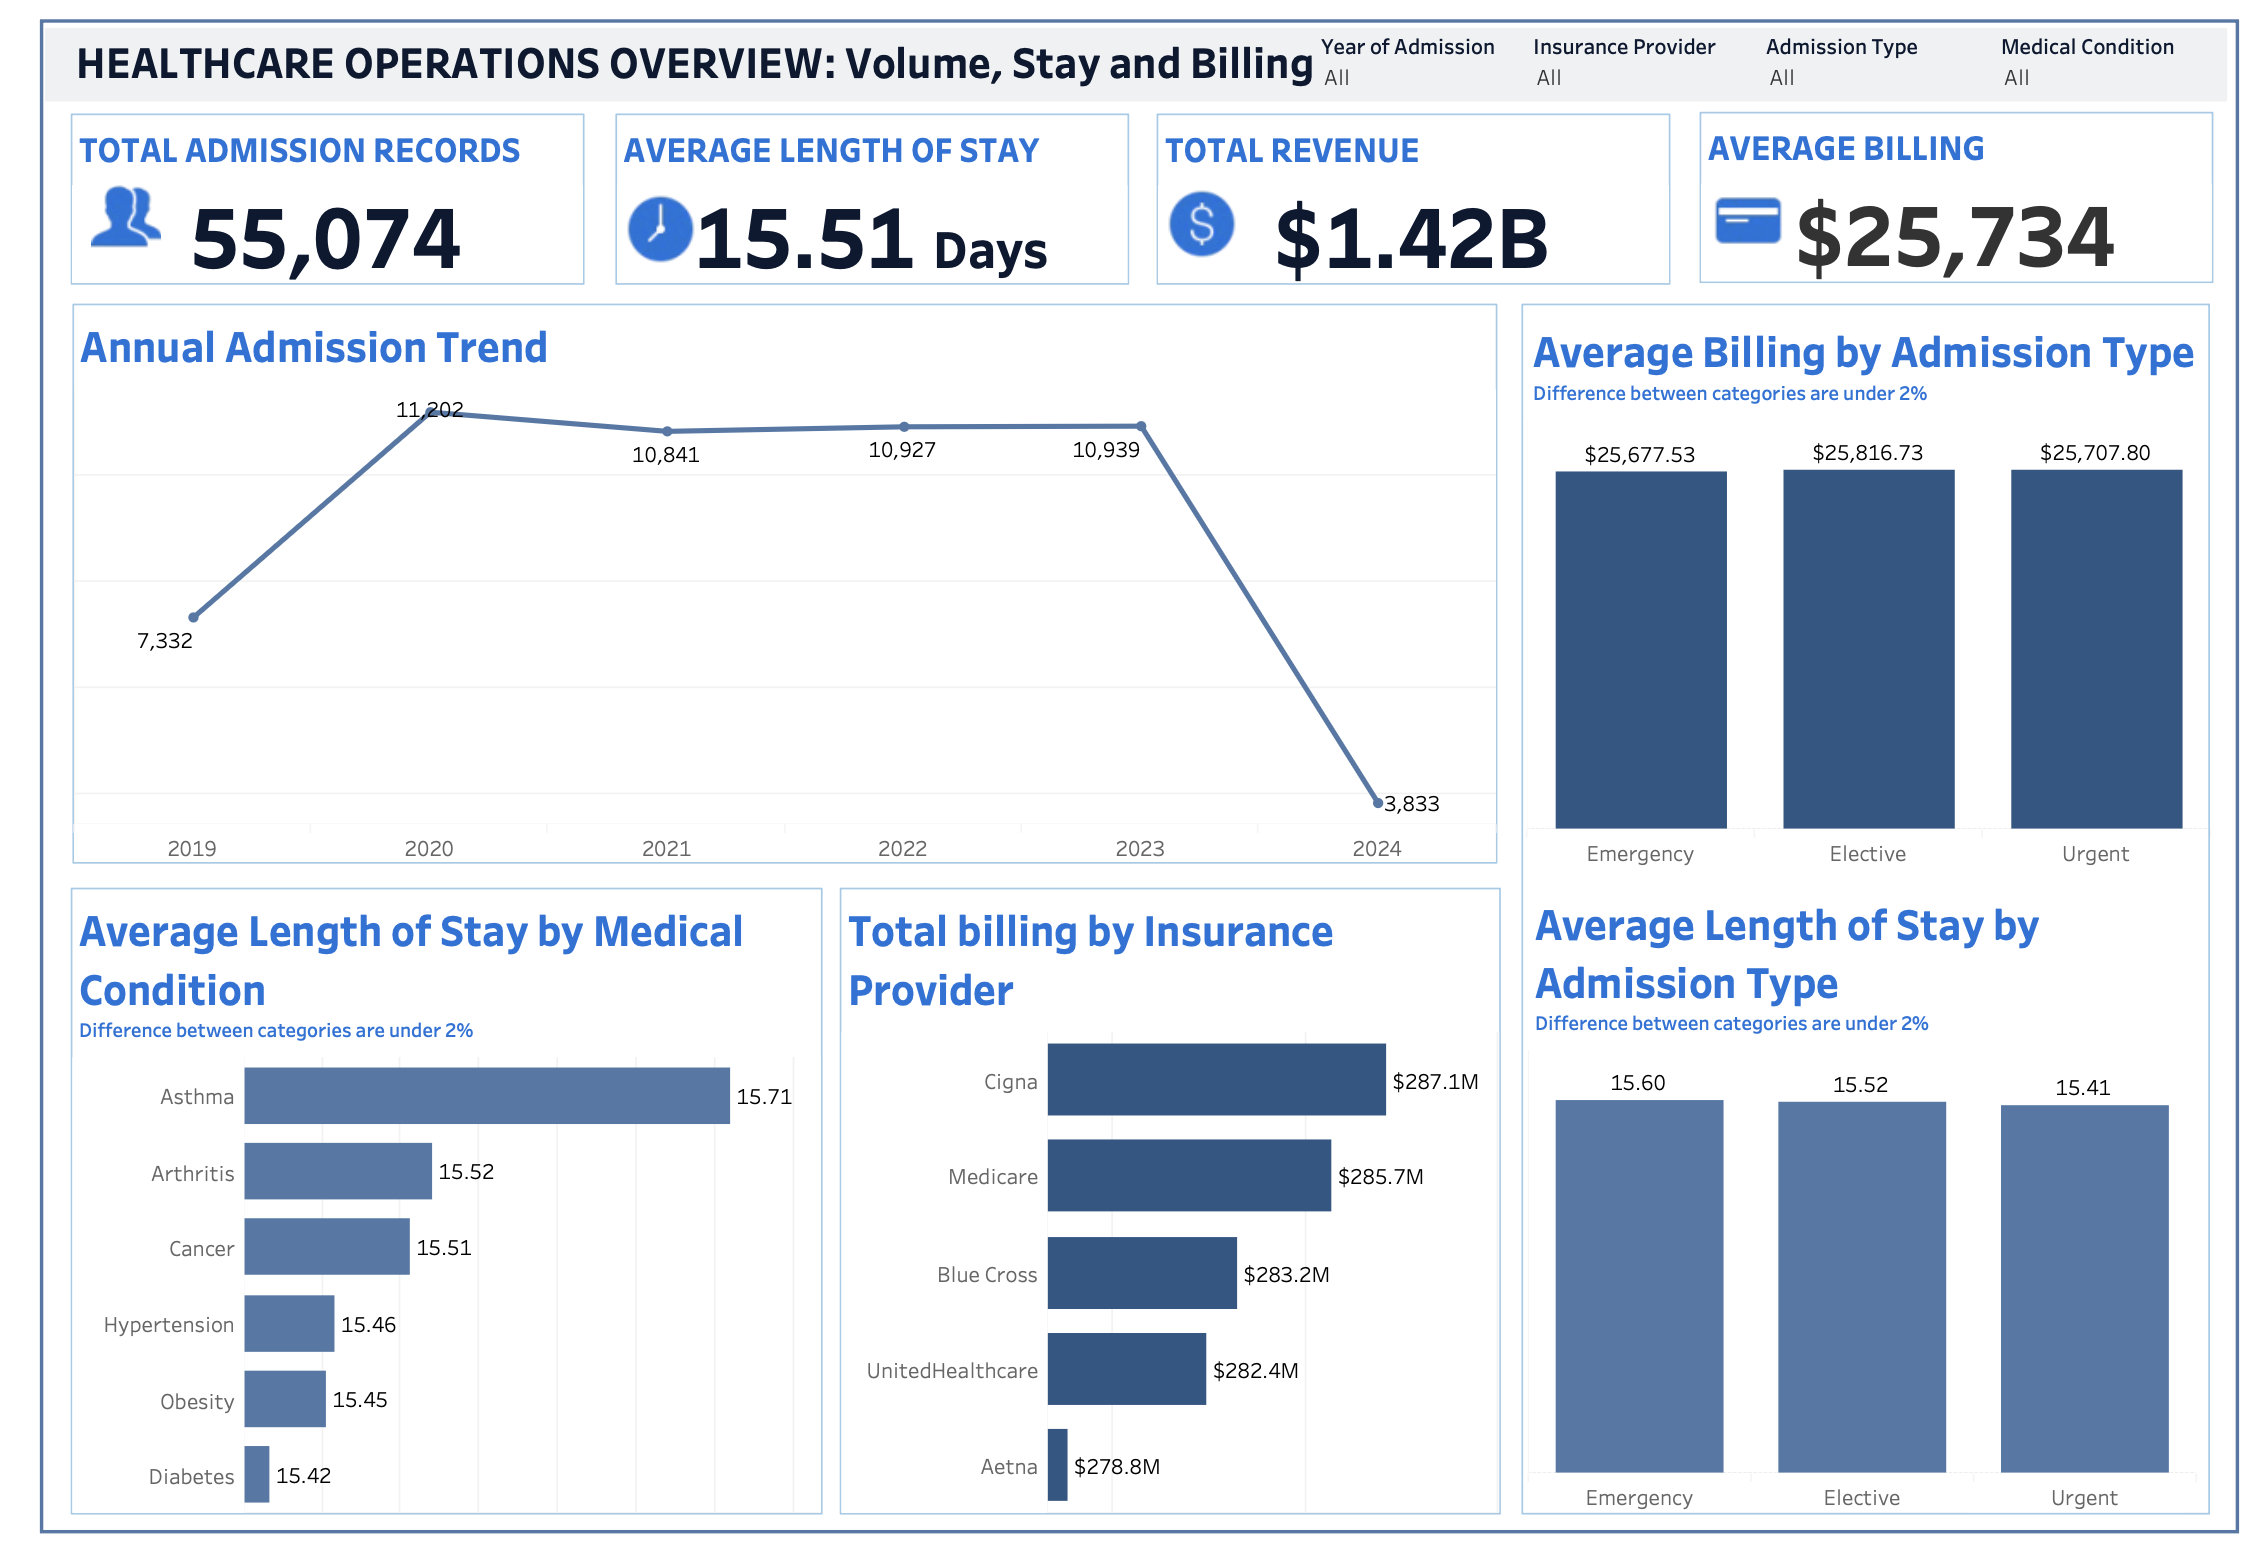

The dashboard page shown, as its layout file describes it:
{"tool":"tableau","page":{"name":"Healthcare Operations Dashboard","canvas":[1300,900],"ordinal":0},"visuals":[{"type":"text","box":[27,9,816,45]},{"type":"filter","title":"Admission Trend","param":"[federated.00twixs0ppvmvj1322stk1p7vn6s].[yr:Date of Admission:ok]","box":[756,13,122,39]},{"type":"filter","title":"Insurance provider","param":"[federated.00twixs0ppvmvj1322stk1p7vn6s].[none:Insurance Provider:nk]","box":[880,13,131,56]},{"type":"filter","title":"LOS by admission type","param":"[federated.00twixs0ppvmvj1322stk1p7vn6s].[none:Admission Type:nk]","box":[1016,13,134,39]},{"type":"filter","title":"Medical Condition","param":"[federated.00twixs0ppvmvj1322stk1p7vn6s].[none:Medical Condition:nk]","box":[1153,13,129,44]},{"type":"worksheet","title":"KPI AVG Billing","mark":"Automatic","box":[977,62,300,100]},{"type":"worksheet","title":"KPI Patients","mark":"Automatic","box":[26,63,300,100]},{"type":"worksheet","title":"KPI AVG LOS","mark":"Automatic","box":[344,63,300,100]},{"type":"worksheet","title":"KPI Revenue","mark":"Automatic","box":[660,63,300,100]},{"type":"image","param":"Image/revenue.png","box":[666,96,41,64]},{"type":"image","param":"Image/patients.png","box":[38,102,41,41]},{"type":"image","param":"Image/avg bill.png","box":[985,105,41,41]},{"type":"image","param":"Image/avg los.png","box":[350,110,41,41]},{"type":"worksheet","title":"Admission Trend","mark":"Line","rows":["healthcare_dataset_clean.csv_8DA2034837BE452B88006000766D7FB"],"cols":["Date of Admission"],"box":[27,174,832,327]},{"type":"worksheet","title":"Avg Billing by admission type","mark":"Bar","rows":["Billing Amount"],"cols":["Admission Type"],"box":[876,178,399,325]},{"type":"worksheet","title":"LOS by admission type","mark":"Automatic","rows":["LOS_days"],"cols":["Admission Type"],"box":[877,512,390,367]},{"type":"worksheet","title":"Medical Condition","mark":"Automatic","rows":["Medical Condition"],"cols":["LOS_days"],"box":[26,515,439,366]},{"type":"worksheet","title":"Insurance provider","mark":"Bar","rows":["Insurance Provider"],"cols":["Billing Amount"],"box":[475,515,386,366]}]}

Visuals, with their boxes in screenshot pixels (x1, y1, x2, y2), scaled from the page's 1300x900 canvas onto the 2268x1556 screenshot:
text: bbox=[47, 16, 1471, 93]
"Admission Trend" filter: bbox=[1319, 22, 1532, 90]
"Insurance provider" filter: bbox=[1535, 22, 1764, 119]
"LOS by admission type" filter: bbox=[1773, 22, 2006, 90]
"Medical Condition" filter: bbox=[2012, 22, 2237, 99]
"KPI AVG Billing" worksheet: bbox=[1704, 107, 2228, 280]
"KPI Patients" worksheet: bbox=[45, 109, 569, 282]
"KPI AVG LOS" worksheet: bbox=[600, 109, 1124, 282]
"KPI Revenue" worksheet: bbox=[1151, 109, 1675, 282]
image: bbox=[1162, 166, 1233, 277]
image: bbox=[66, 176, 138, 247]
image: bbox=[1718, 182, 1790, 252]
image: bbox=[611, 190, 682, 261]
"Admission Trend" worksheet (Line marks): bbox=[47, 301, 1499, 866]
"Avg Billing by admission type" worksheet (Bar marks): bbox=[1528, 308, 2224, 870]
"LOS by admission type" worksheet: bbox=[1530, 885, 2210, 1520]
"Medical Condition" worksheet: bbox=[45, 890, 811, 1523]
"Insurance provider" worksheet (Bar marks): bbox=[829, 890, 1502, 1523]
